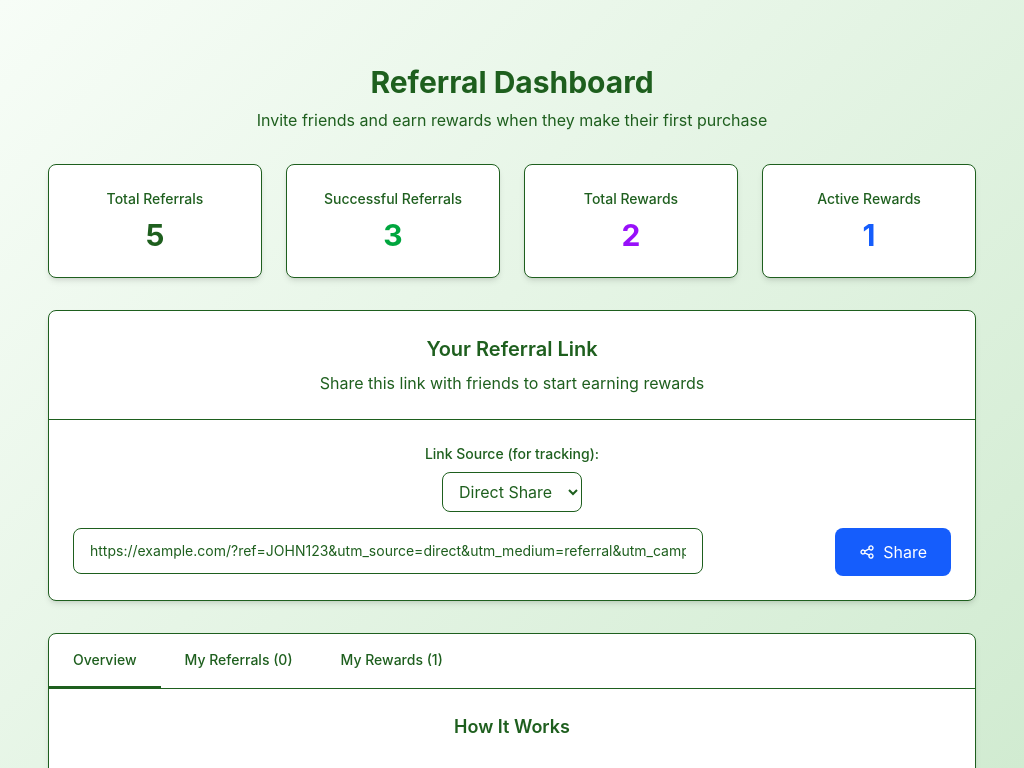
it: CustomerReferralDashboardPage › Referrals Tab › should show empty state when no referrals
What coordinates should you click on to do the following:
click the button "My Referrals (0)"
I would click on:
 (238, 661)
Its box is left=160, top=634, right=316, bottom=688.
(page scrolled)
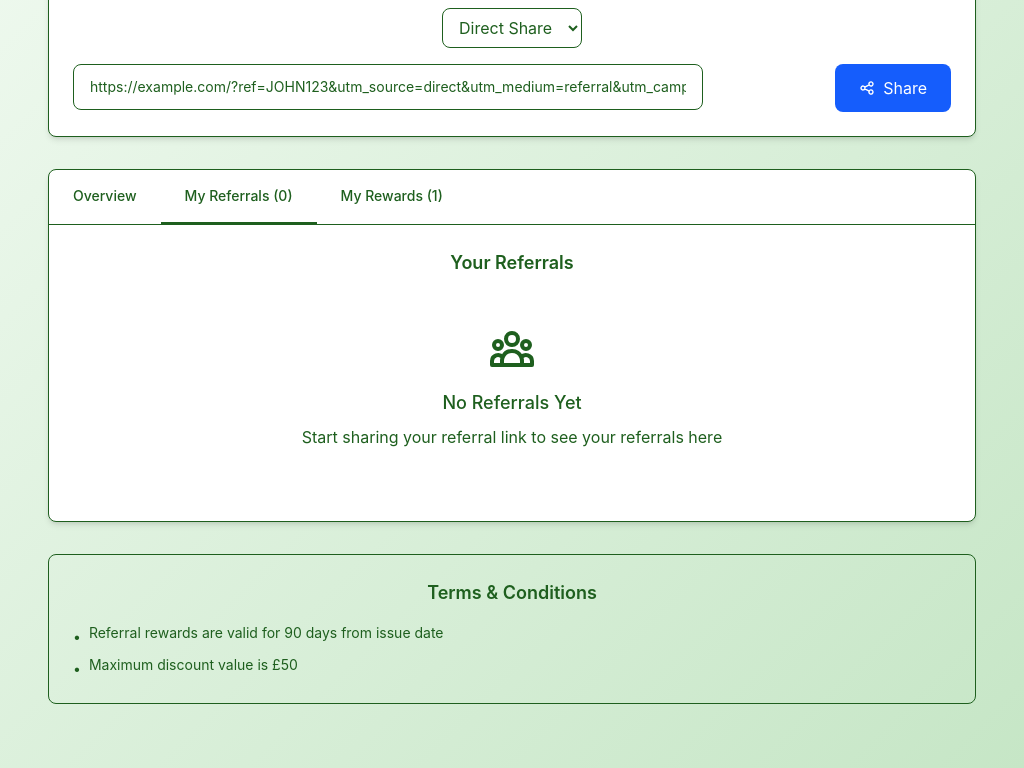
Expected: the heading "No Referrals Yet" is shown, left=442, top=392, right=582, bottom=413
Expected: the text "Start sharing your referral link to see your referrals here" is shown, left=302, top=427, right=722, bottom=447
